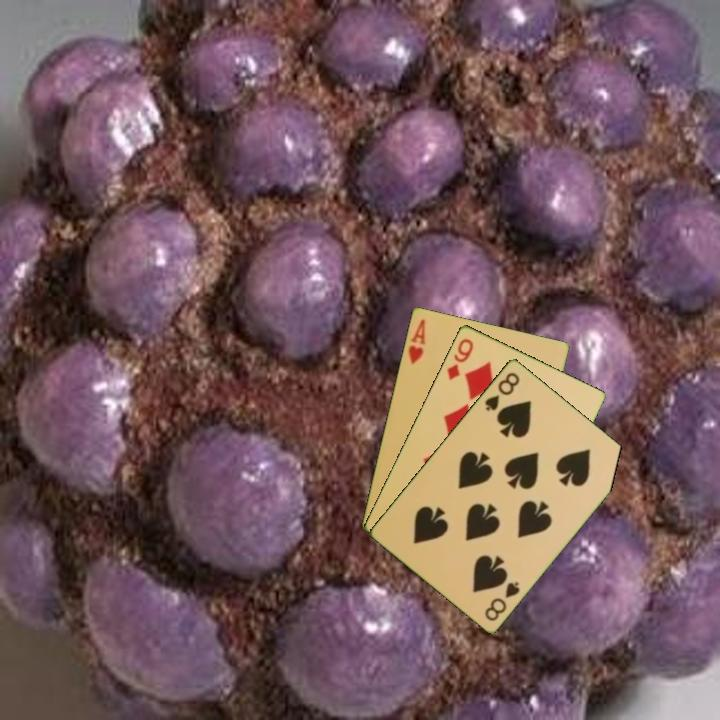8s: (481, 577, 523, 624), (481, 368, 522, 414)
9d: (443, 334, 476, 383)
Ah: (404, 315, 428, 367)
